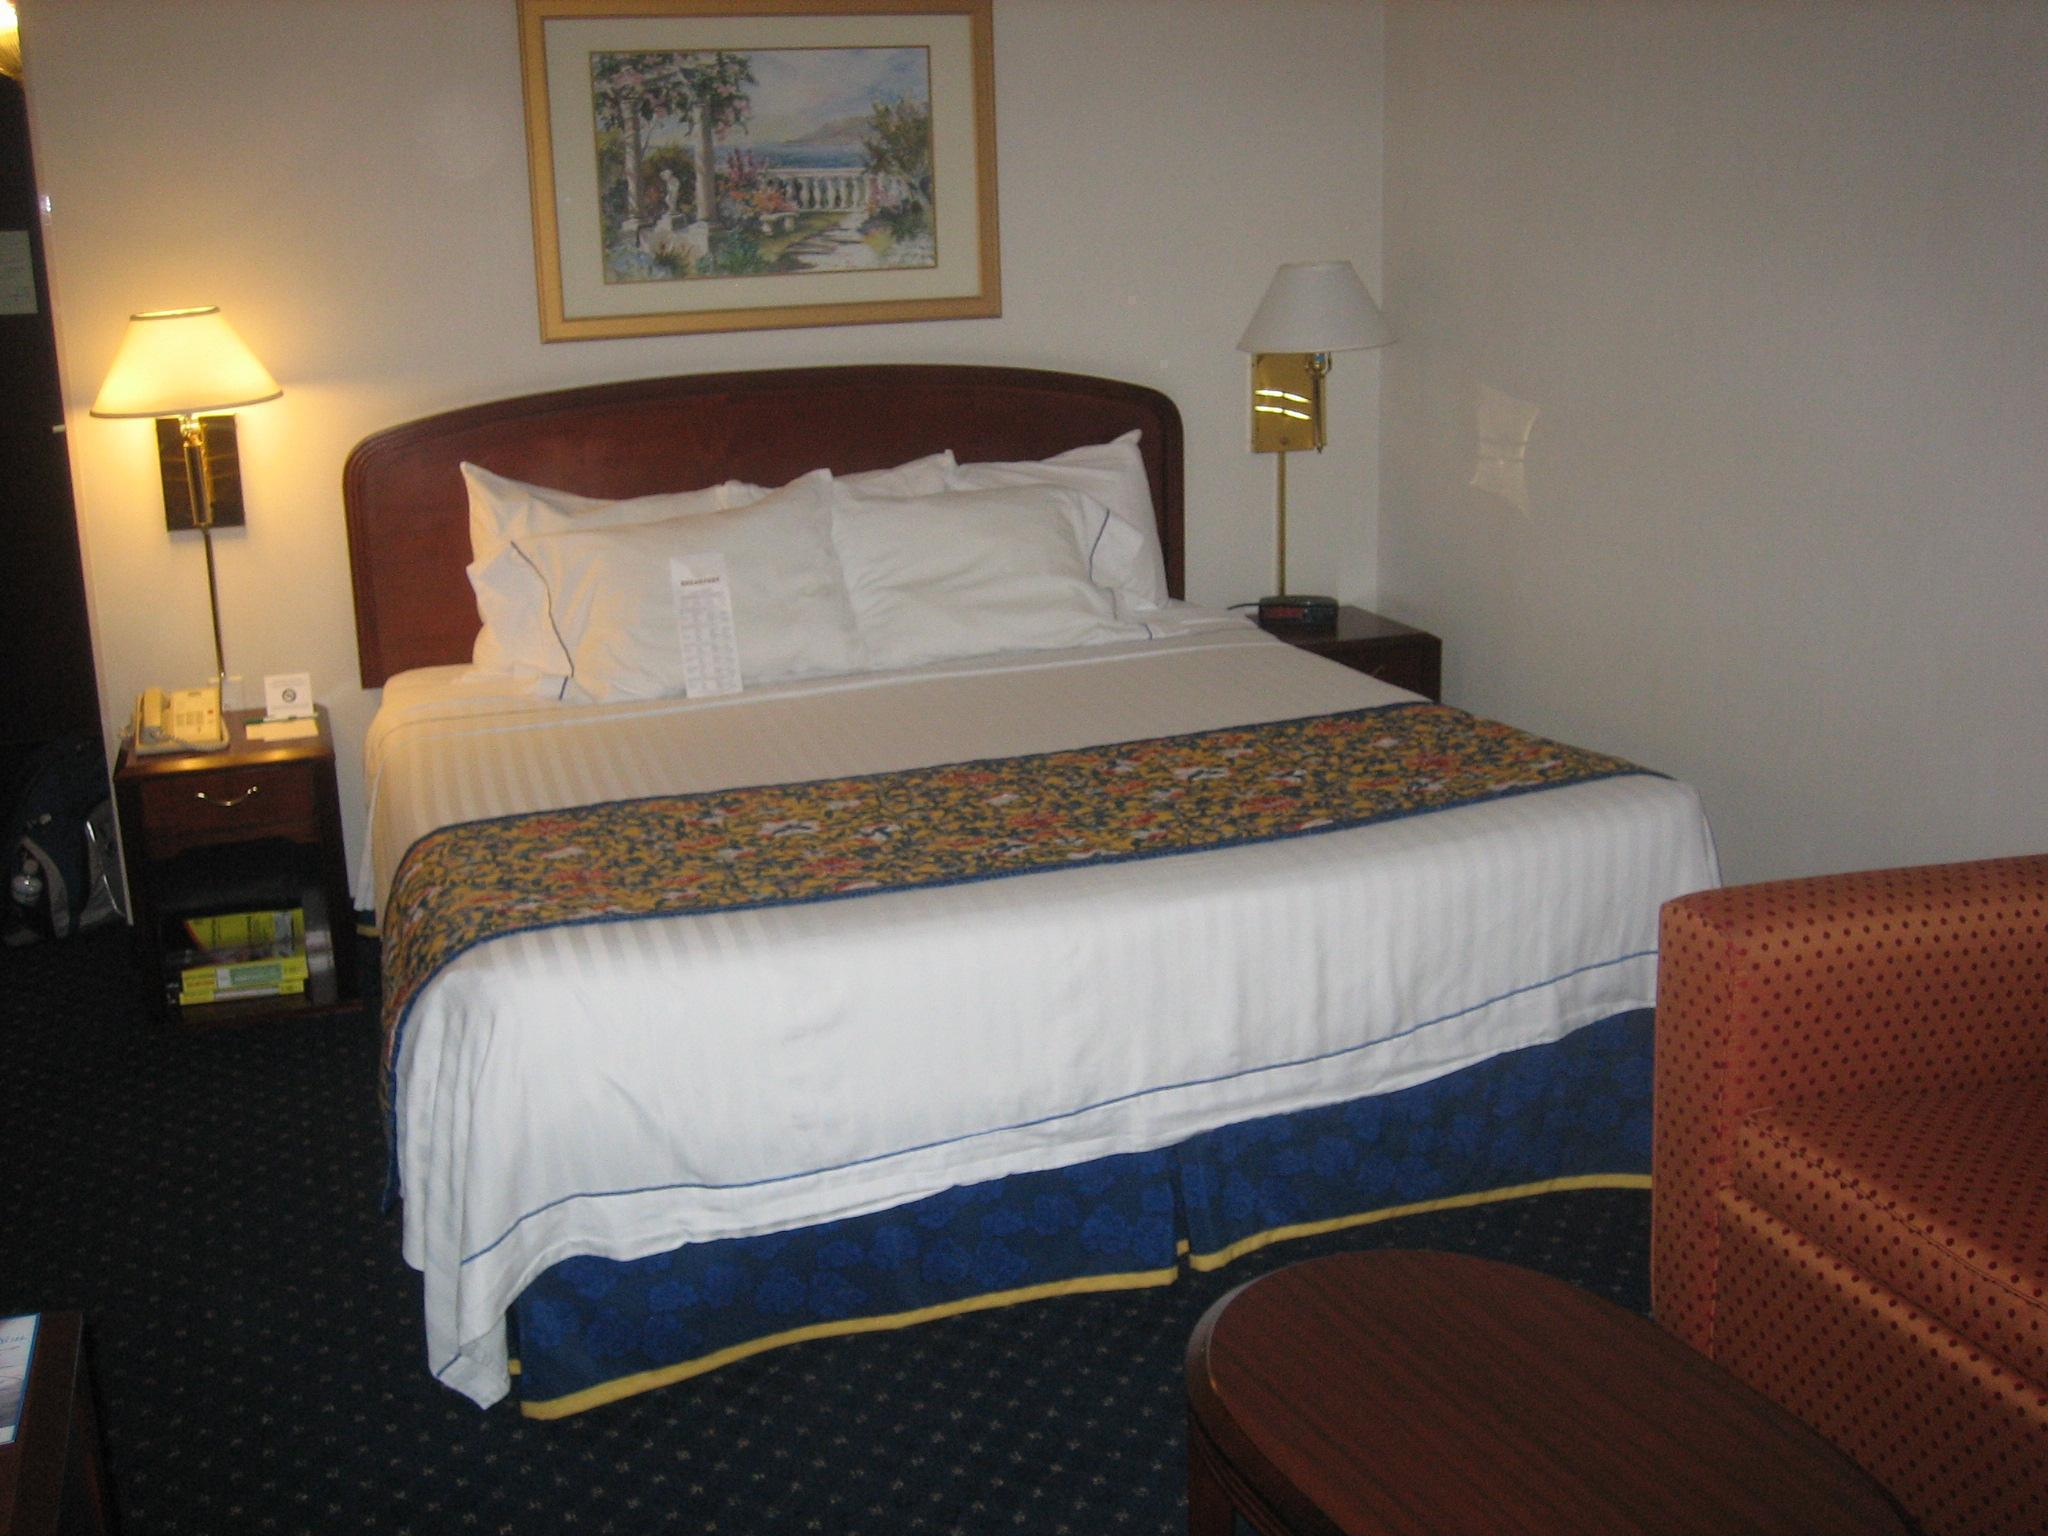Cama: (342, 399, 1646, 1192)
Otro Obstaculo: (6, 733, 132, 944)
